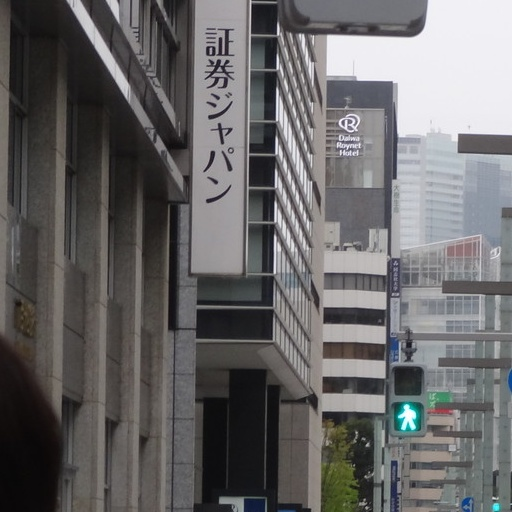Pedestrian_Signal_Blue: (389, 355, 427, 437)
